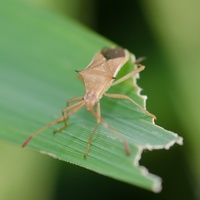insect: (22, 47, 155, 157)
